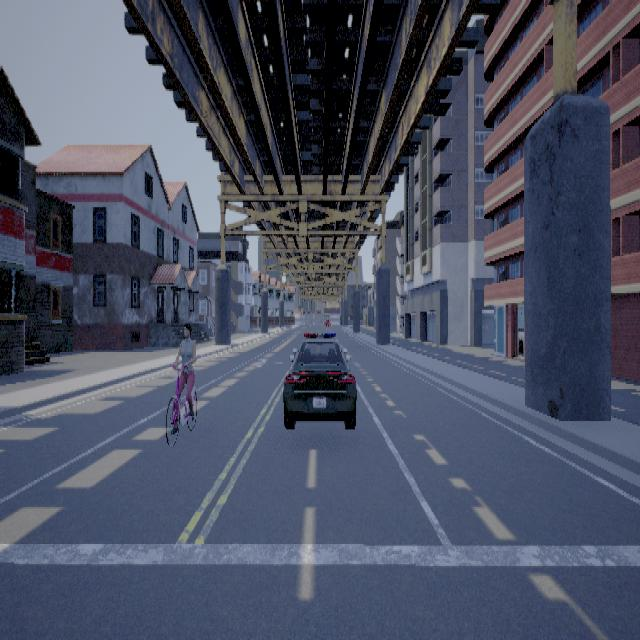bike: (165, 323, 205, 445)
vehicle: (282, 332, 356, 428)
